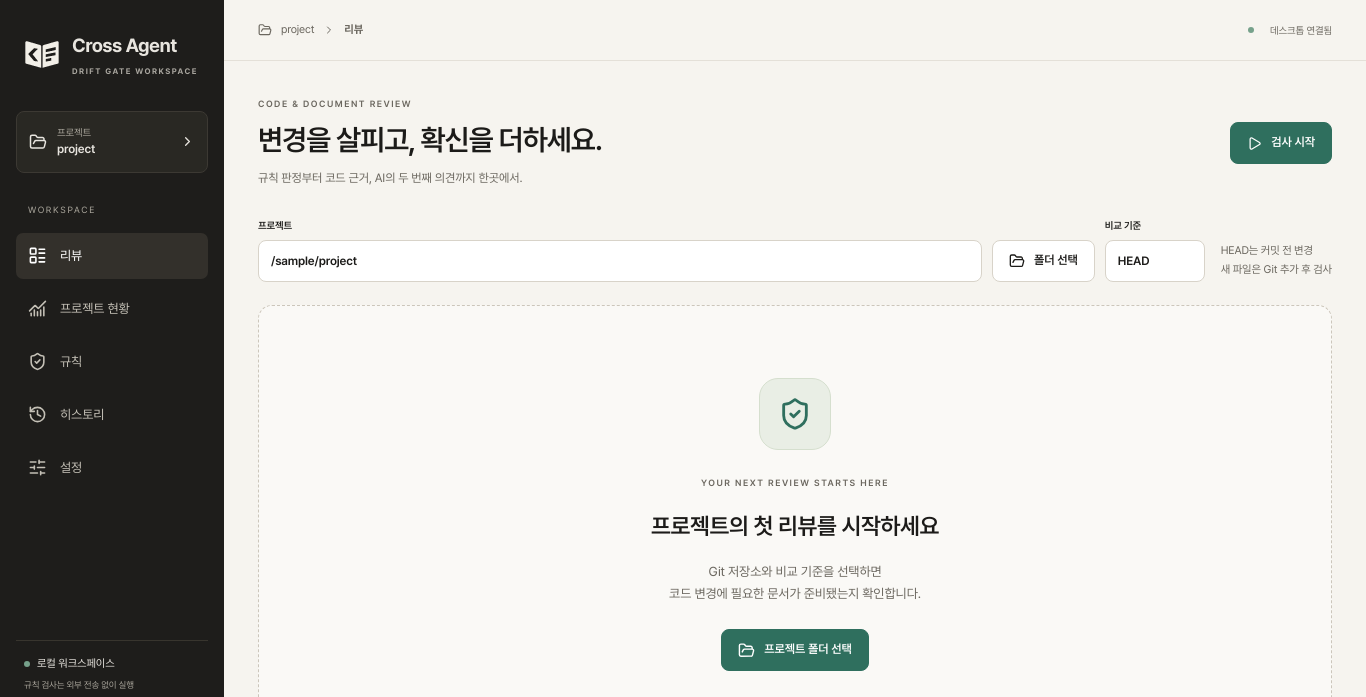
Test case: applies progress events that arrive in the same render batch
Click the button "프로젝트 현황".
click(112, 309)  # box [16,286,208,332]
(page scrolled)
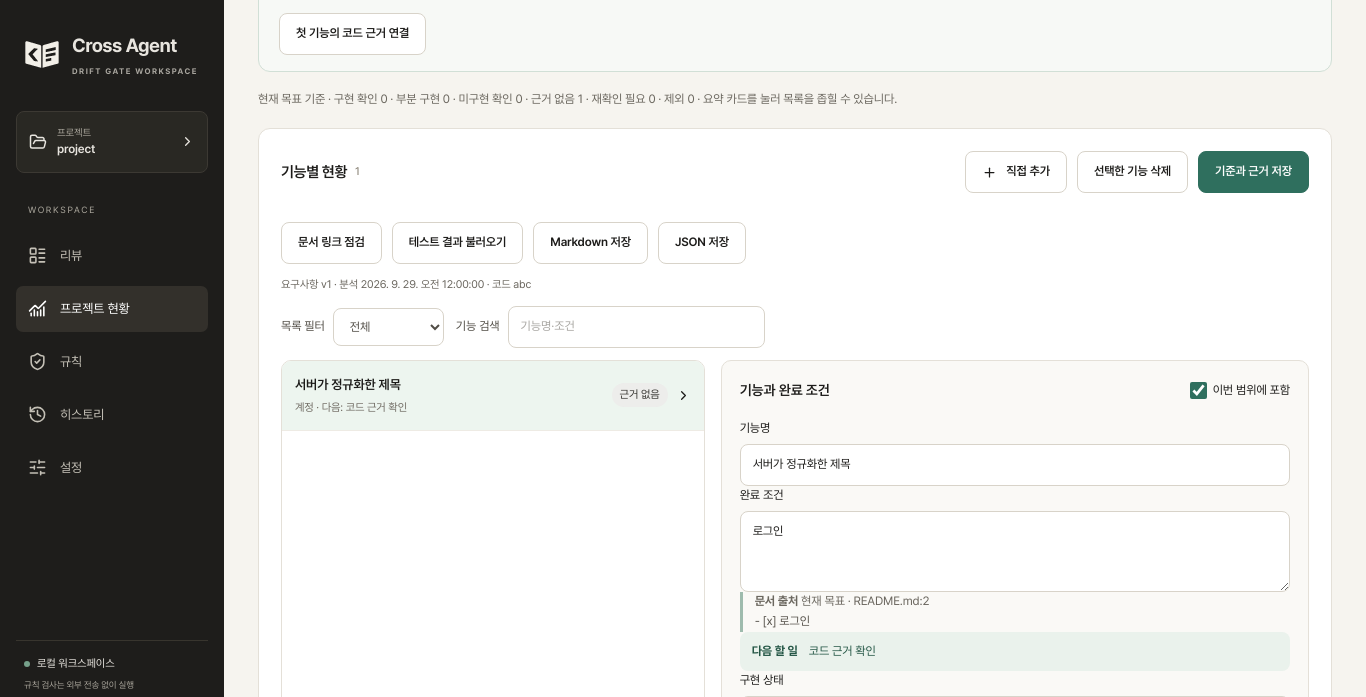
Expected: the text "서버가 정규화한 제목" is shown, [295,377,401,392]
